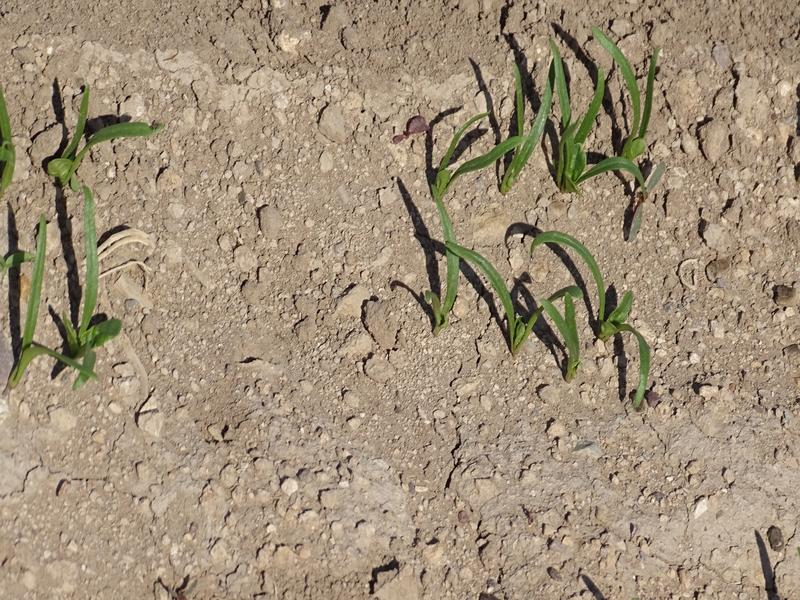Espinaca: (1, 92, 155, 385), (435, 216, 655, 401), (420, 42, 659, 205)
